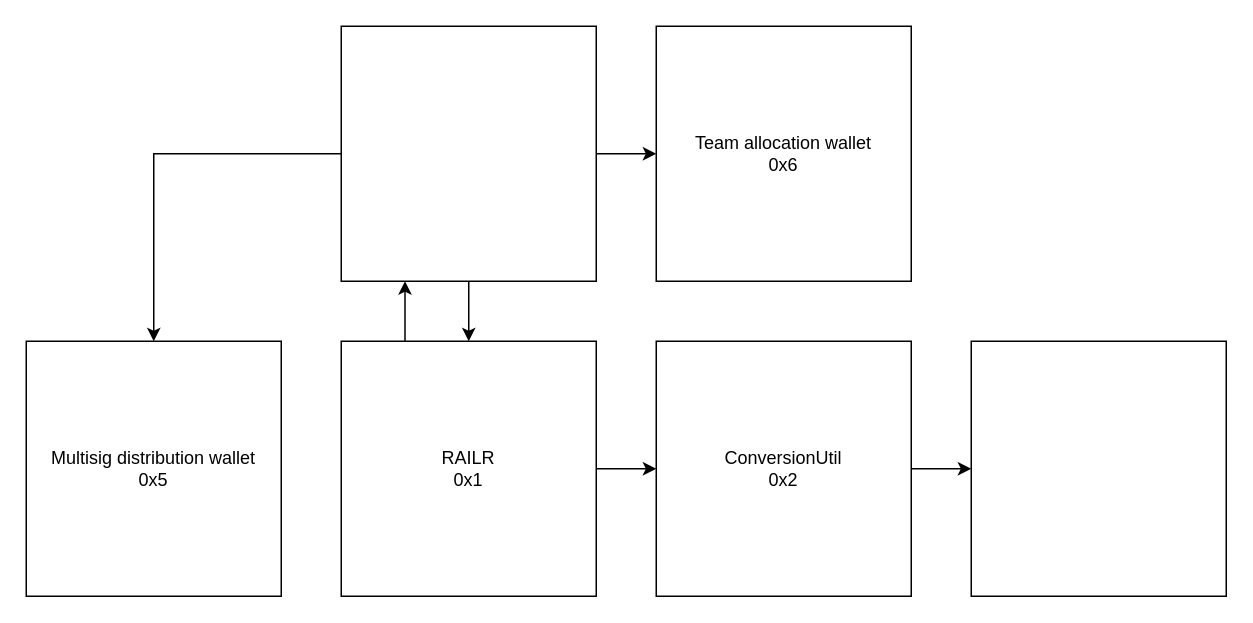
The diagram is 1253 pixels wide and 623 high, and some of its shapes have lost their labels. Here are the shapes that lost their labels. From the top down, the centre of each, then its label:
At pixel 468 153: "Multisig deploymen wallet 0x3".
At pixel 1098 468: "Multisig treasury wallet 0x4".
